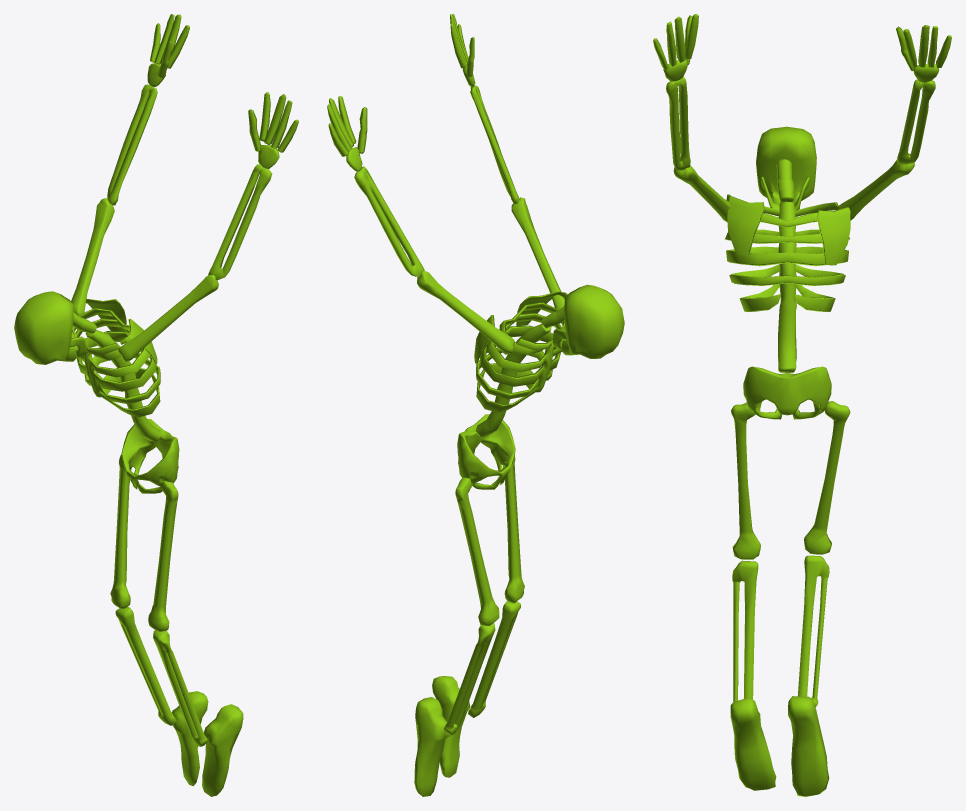
The model's file is Gallows_01C_Lod0.fbx.
3 renders of one model, left to right at view 1: azimuth 30°, elevation 25°; view 2: azimuth 150°, elevation 25°; view 3: azimuth 270°, elevation 25°, orthographic. The views are drawn at different scales.
Visible parts, largest first — view 1: Gallows_01C_Lod0; view 2: Gallows_01C_Lod0; view 3: Gallows_01C_Lod0.
Boxes of the visible parts, <box> form: Gallows_01C_Lod0: <box>14,14,298,796</box>; Gallows_01C_Lod0: <box>327,14,624,796</box>; Gallows_01C_Lod0: <box>653,14,951,796</box>.
Bounding box in the file's own units: 63.75 × 196 × 66.32.
